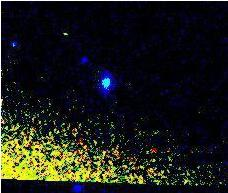star: (47, 17, 77, 47)
